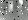person: (19, 2, 25, 15), (9, 2, 14, 12)
